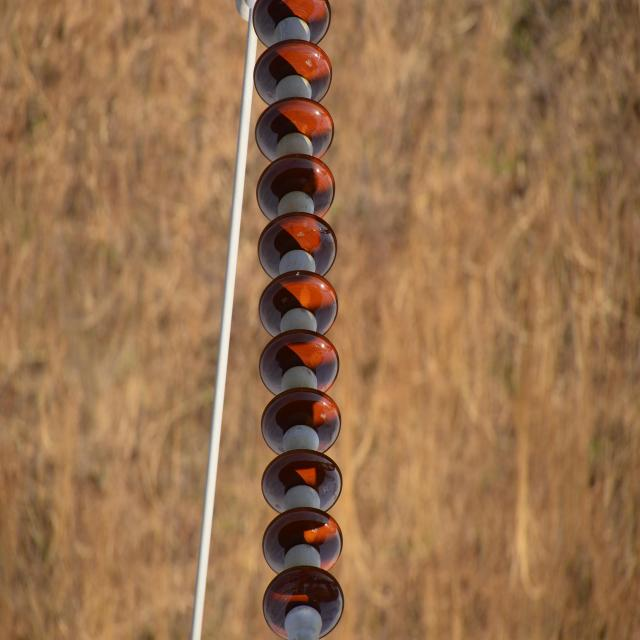insulator: (252, 0, 346, 636)
